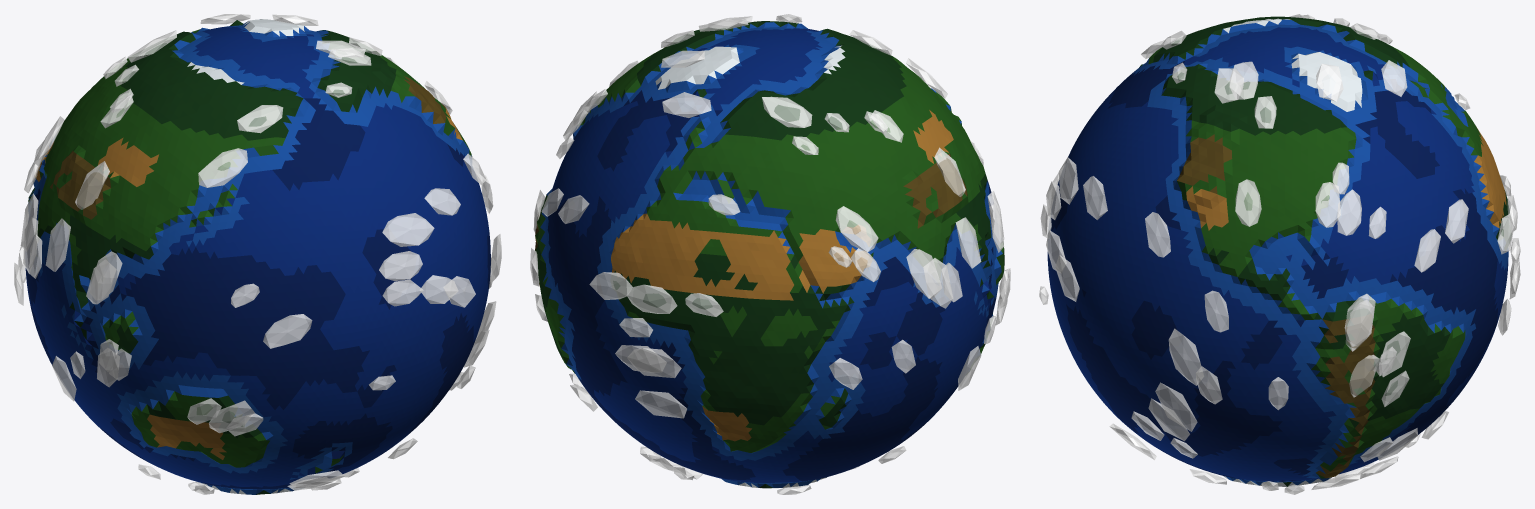
The model's file is CELESTIAL_02_Earth.obj.
3 views of the same model, side by side, from view 1: azimuth 30°, elevation 25°; view 2: azimuth 150°, elevation 25°; view 3: azimuth 270°, elevation 25° (orthographic).
Parts seen in each view (by area): view 1: CELESTIAL_02_Earth_Earth, CELESTIAL_02_Earth_Clouds; view 2: CELESTIAL_02_Earth_Earth, CELESTIAL_02_Earth_Clouds; view 3: CELESTIAL_02_Earth_Earth, CELESTIAL_02_Earth_Clouds.
Boxes of the visible parts, x1=… form: CELESTIAL_02_Earth_Earth: x1=25, y1=19, x2=490, y2=494; CELESTIAL_02_Earth_Clouds: x1=14, y1=14, x2=501, y2=494; CELESTIAL_02_Earth_Earth: x1=535, y1=21, x2=1004, y2=488; CELESTIAL_02_Earth_Clouds: x1=530, y1=14, x2=1010, y2=494; CELESTIAL_02_Earth_Earth: x1=1047, y1=16, x2=1511, y2=486; CELESTIAL_02_Earth_Clouds: x1=1039, y1=14, x2=1520, y2=494.
Size of the model in its own units: 2.07 by 2.03 by 2.08.
